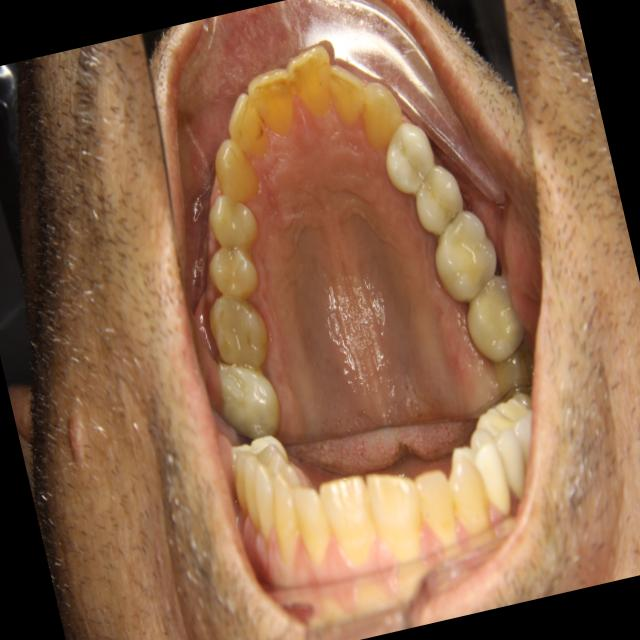tooth: (447, 254, 539, 375), (415, 197, 509, 312), (198, 340, 290, 454), (196, 277, 279, 381), (369, 102, 448, 207), (279, 30, 348, 138), (401, 153, 476, 245), (347, 64, 414, 160), (317, 45, 378, 147), (198, 232, 270, 313), (204, 127, 266, 210), (241, 60, 303, 141), (203, 187, 267, 263), (214, 82, 273, 163)
